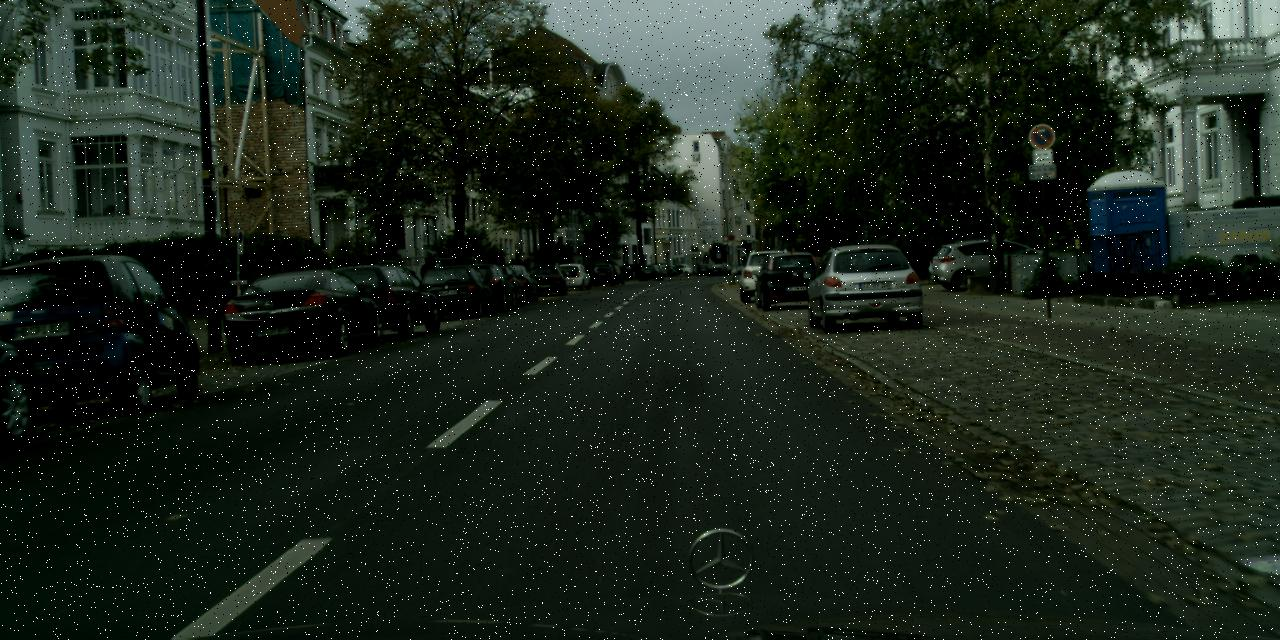ped: (420, 258, 440, 308)
